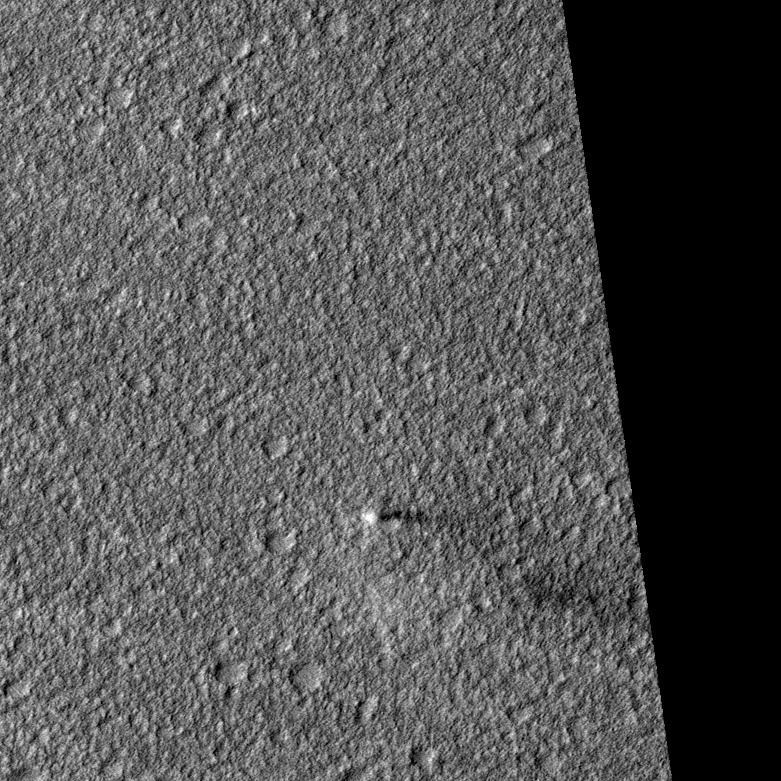dust_devil: (360, 507, 433, 527)
